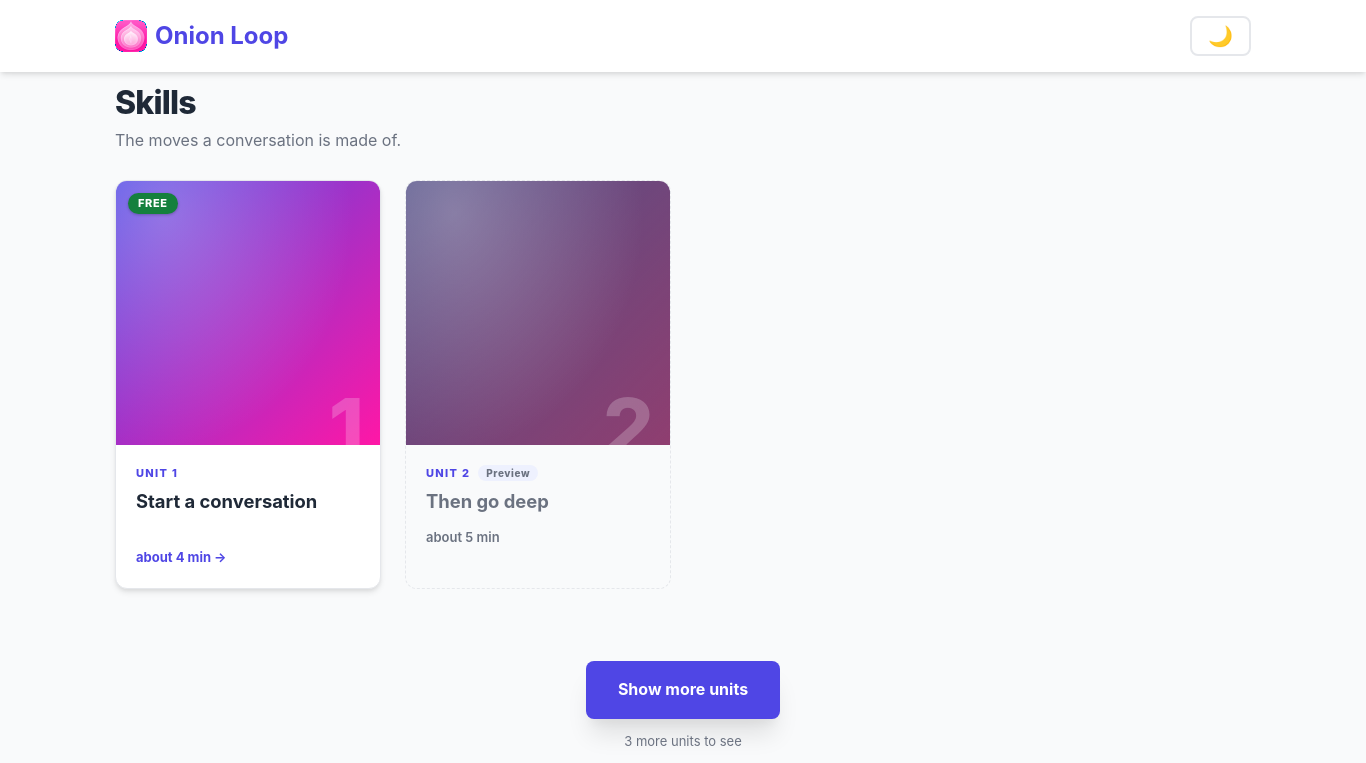
Test case: the stronger reply is the learner’s own words, and says so
This screenshot has width=1366, height=763.
(page scrolled)
Click the button "UNIT 1 Start a conversation Free about 4 min →" at (248, 384), box 115,180 -> 381,589
(page scrolled)
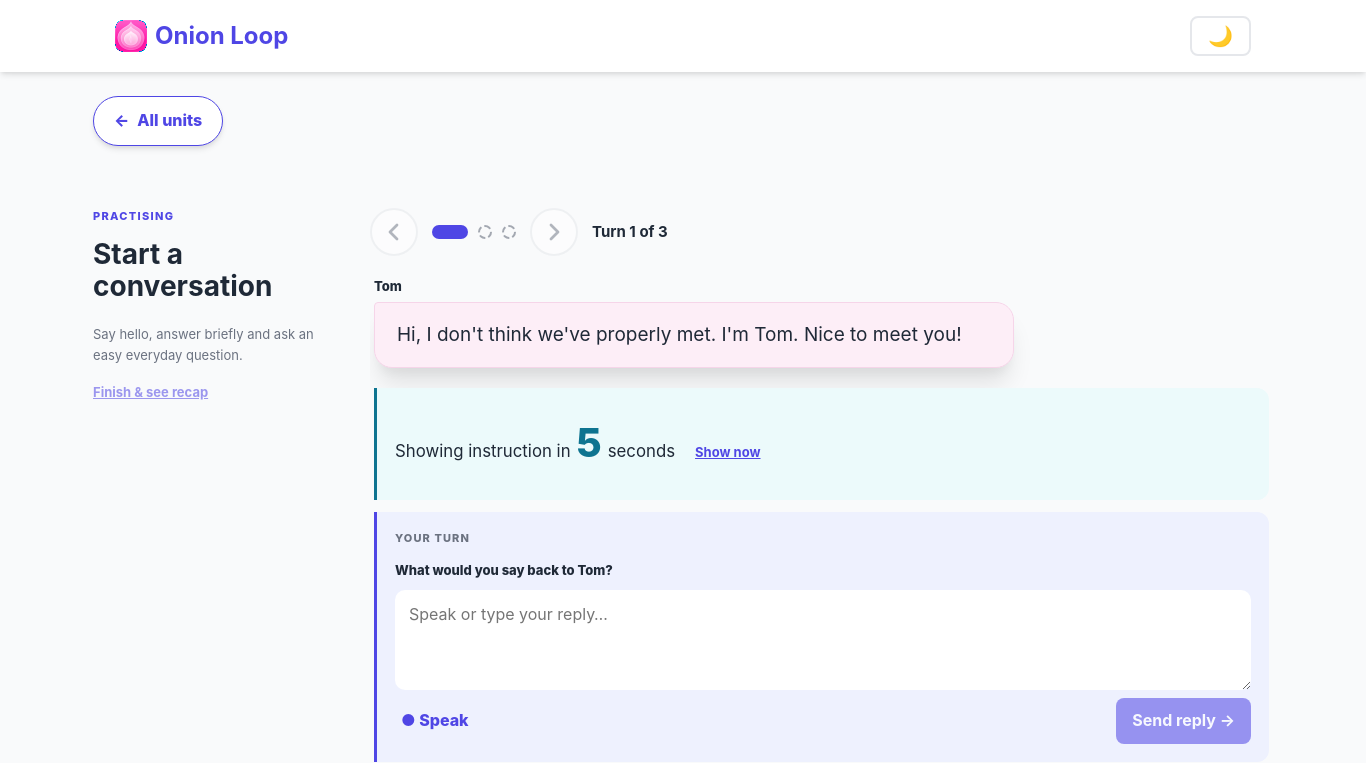
Type "Hi Tom, I am Alex." into the text box at (823, 640), box 395,590 -> 1251,690
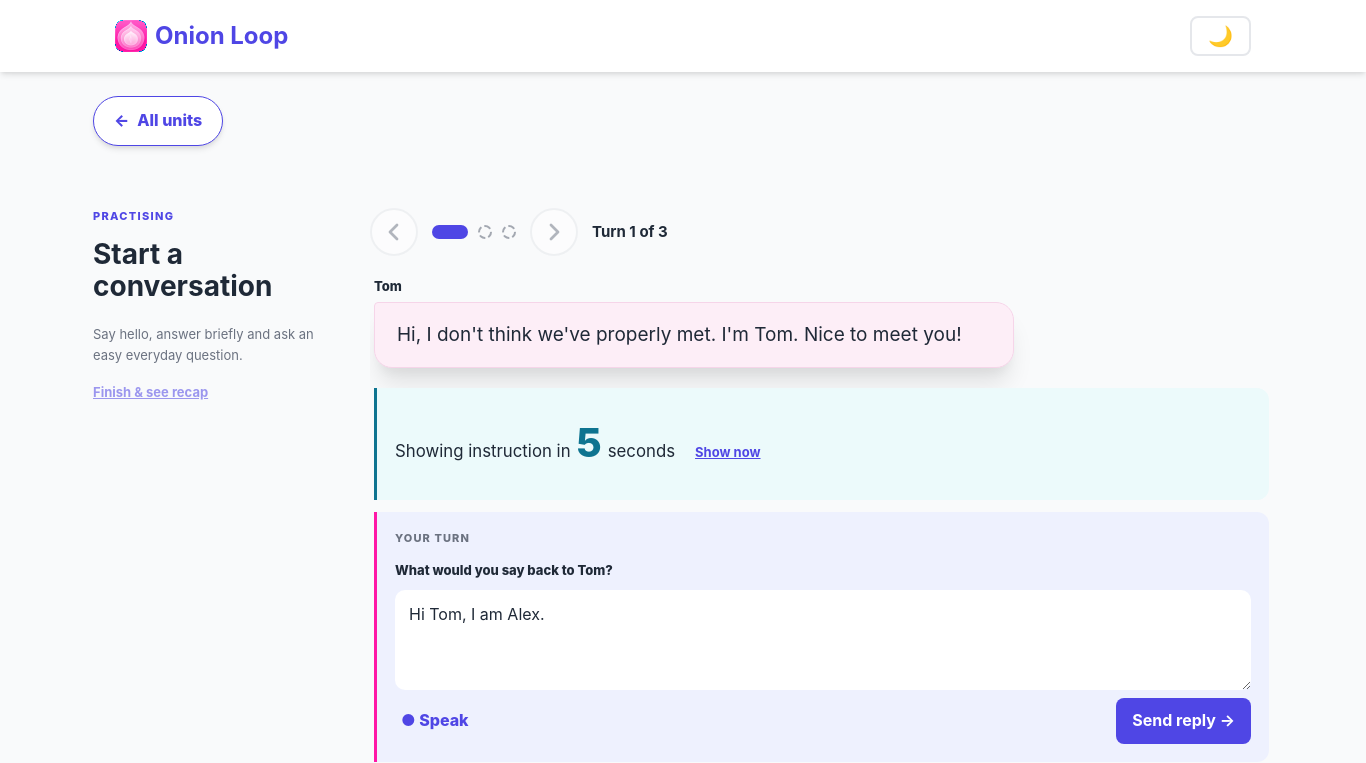
Click the button "Send reply →" at (1184, 721), box 1116,698 -> 1251,744
(page scrolled)
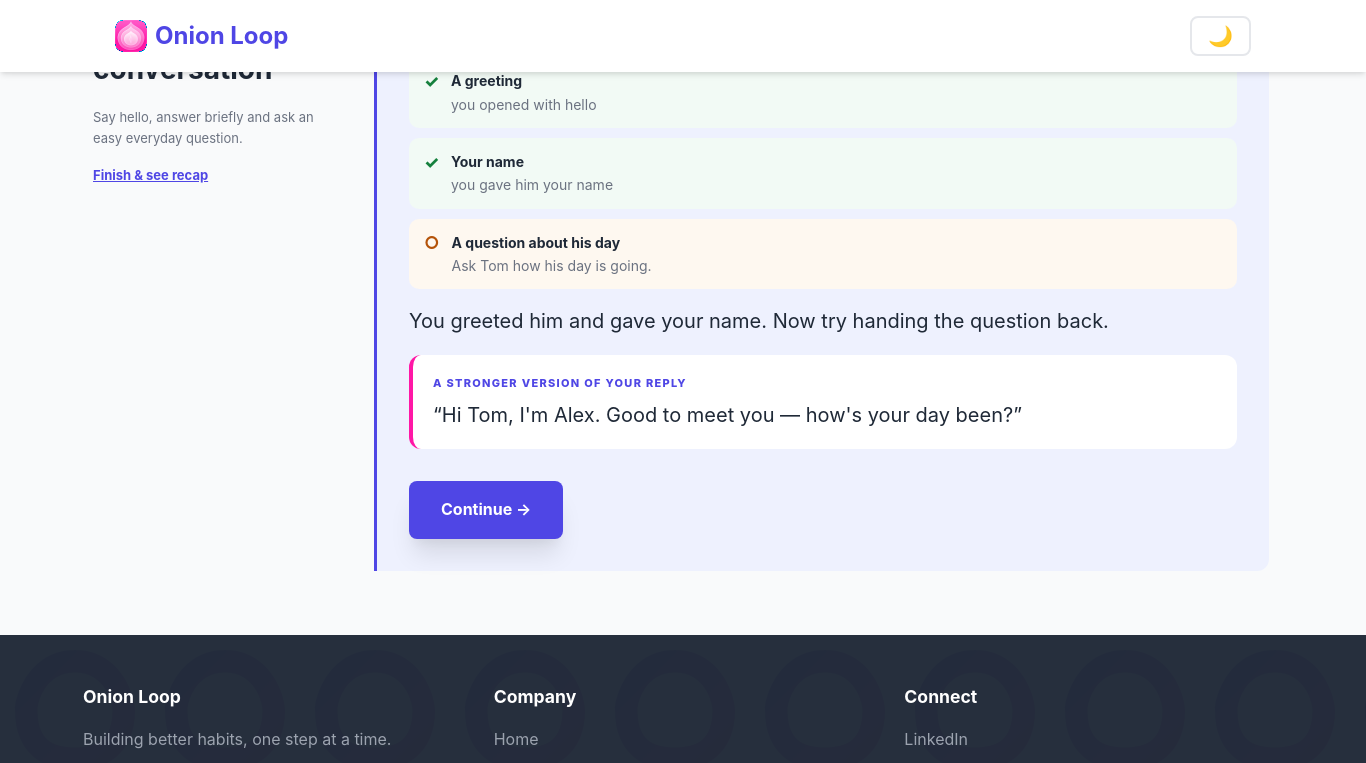
expect the text "You greeted him and gave your name. Now try handing the question back." is shown: met, box 409,310 -> 1109,334
expect the text "A STRONGER VERSION OF YOUR REPLY" is shown: met, box 433,376 -> 687,390
